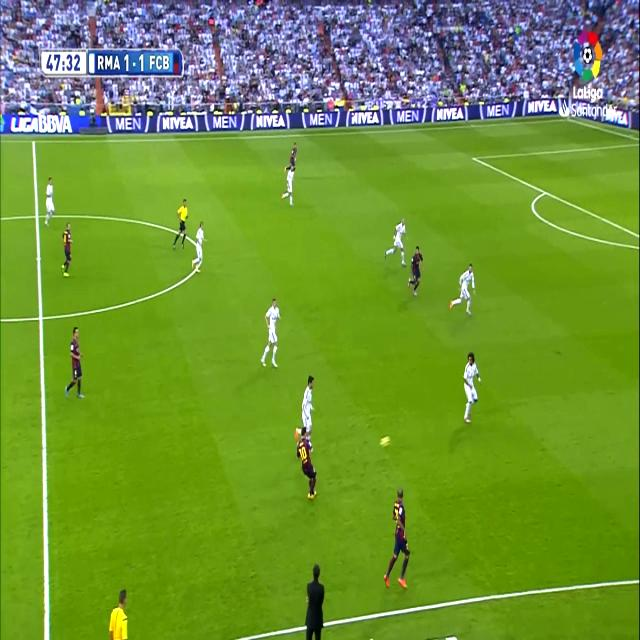halfcircle_bottom: (34, 303, 47, 332)
halfcircle_top: (32, 204, 42, 226)
midline_top_intersection: (30, 136, 38, 146)
top_arc_area_intersection: (541, 184, 549, 198)
